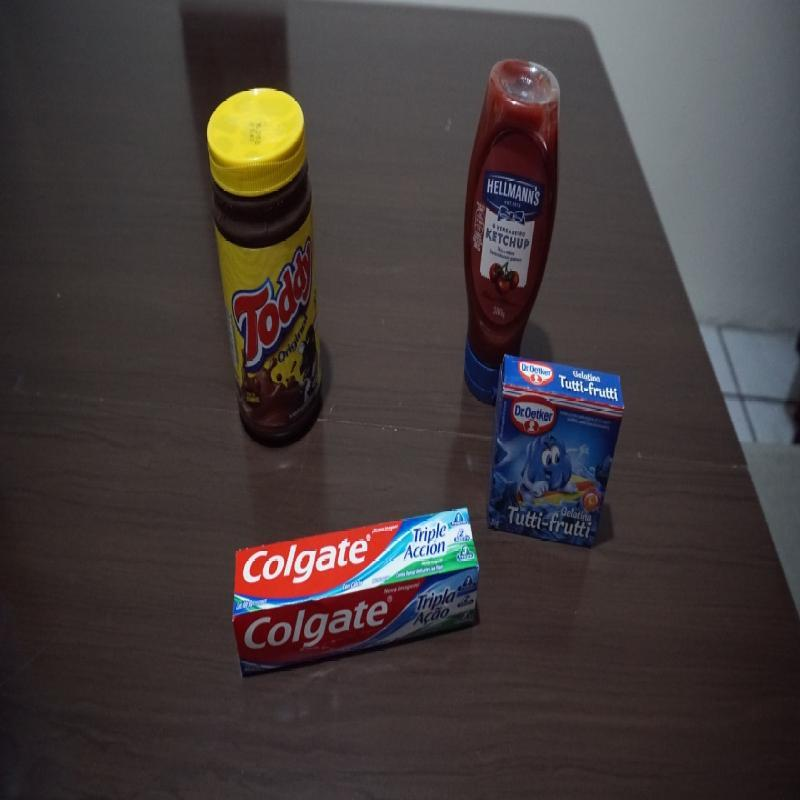Chocolate Powder: (204, 84, 324, 445)
Gelatine: (485, 351, 626, 552)
Ketchup: (460, 53, 563, 410)
Toothpaste: (229, 505, 482, 682)
